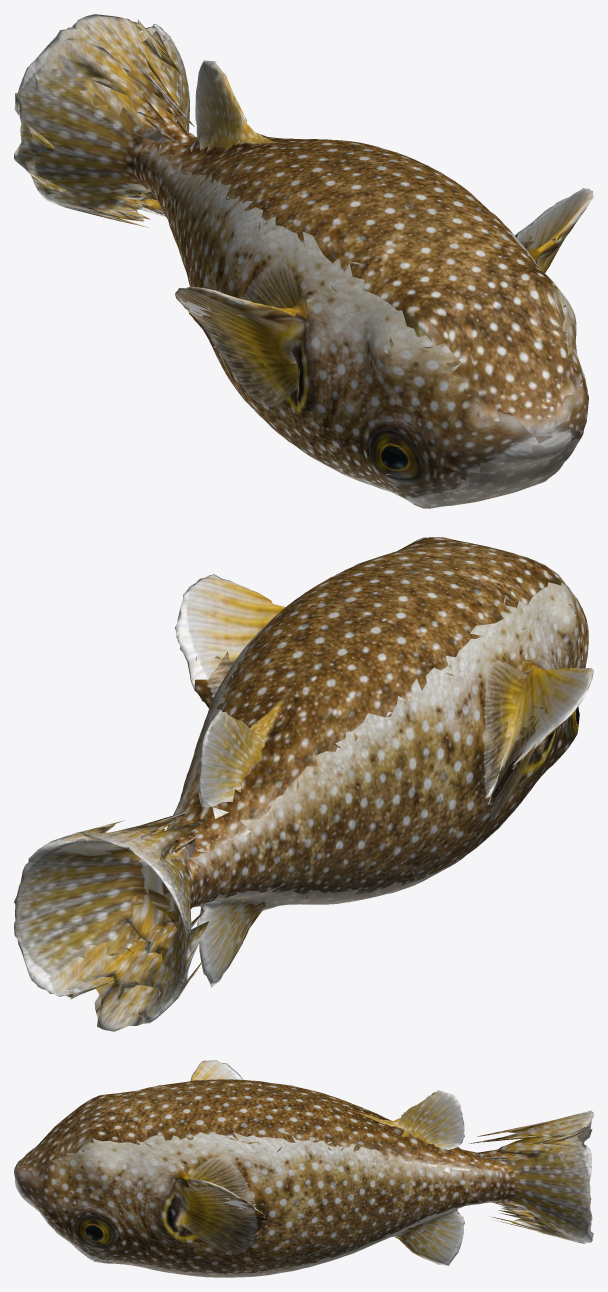
Rendered from fish_puffer.glb.
The picture shows the model from 3 angles, top to bottom: view 1: azimuth 30°, elevation 25°; view 2: azimuth 150°, elevation 25°; view 3: azimuth 270°, elevation 25°; orthographic projection. The views are drawn at different scales.
Parts seen in each view (by area): view 1: orient; view 2: orient; view 3: orient.
Part boxes in pixels (x1=…): orient: x1=14, y1=14, x2=593, y2=508; orient: x1=14, y1=537, x2=593, y2=1031; orient: x1=14, y1=1060, x2=593, y2=1277.
Size of the model in its own units: 1 by 0.649 by 1.94.
Materials: 1 (1 with a texture image).
